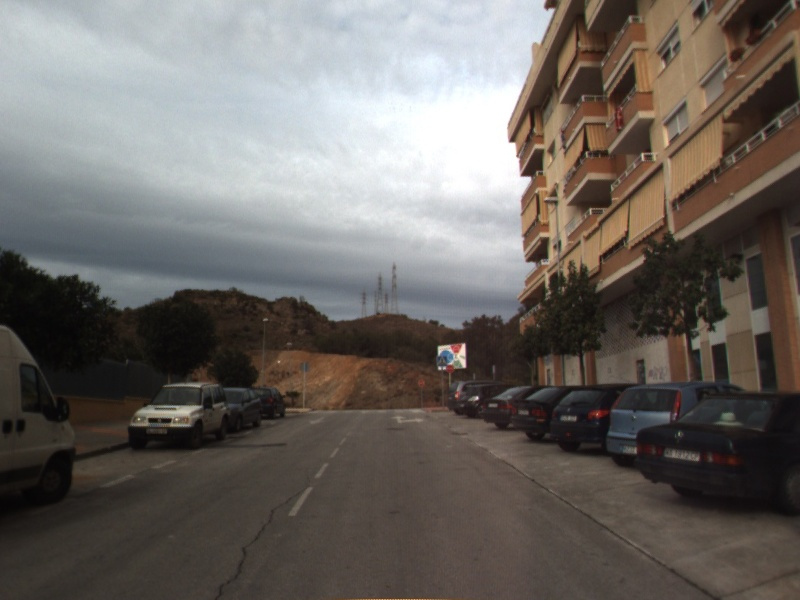STRAIGHT_RIGHT: (389, 413, 426, 426)
